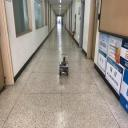cart: (59, 62, 69, 76)
